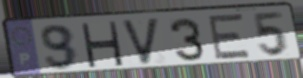3: (168, 16, 207, 62)
5: (249, 9, 292, 58)
9: (38, 22, 82, 71)
E: (207, 12, 253, 62)
H: (78, 22, 125, 68)
V: (119, 16, 162, 67)
